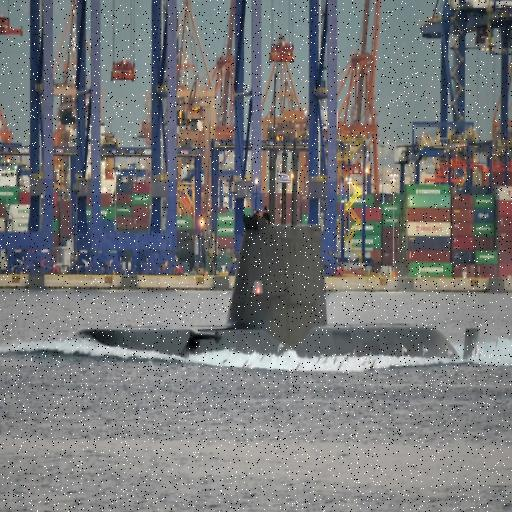submarine: (73, 211, 480, 365)
